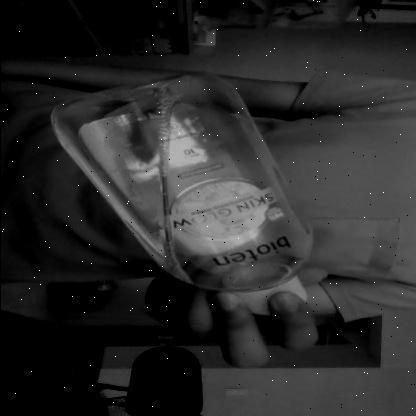Plastic Bottle: (49, 74, 312, 319)
